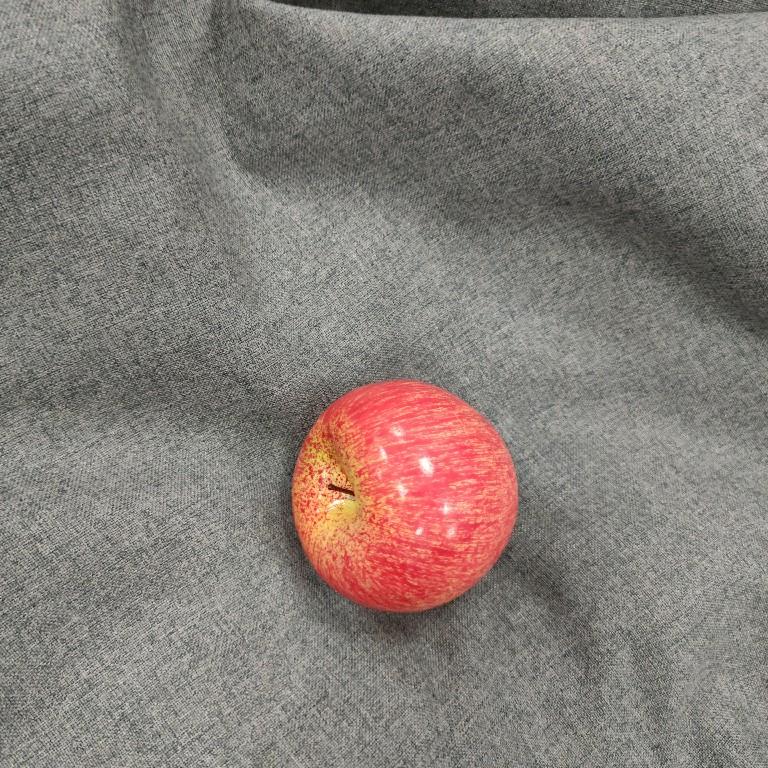fruit_apple: (285, 374, 524, 619)
